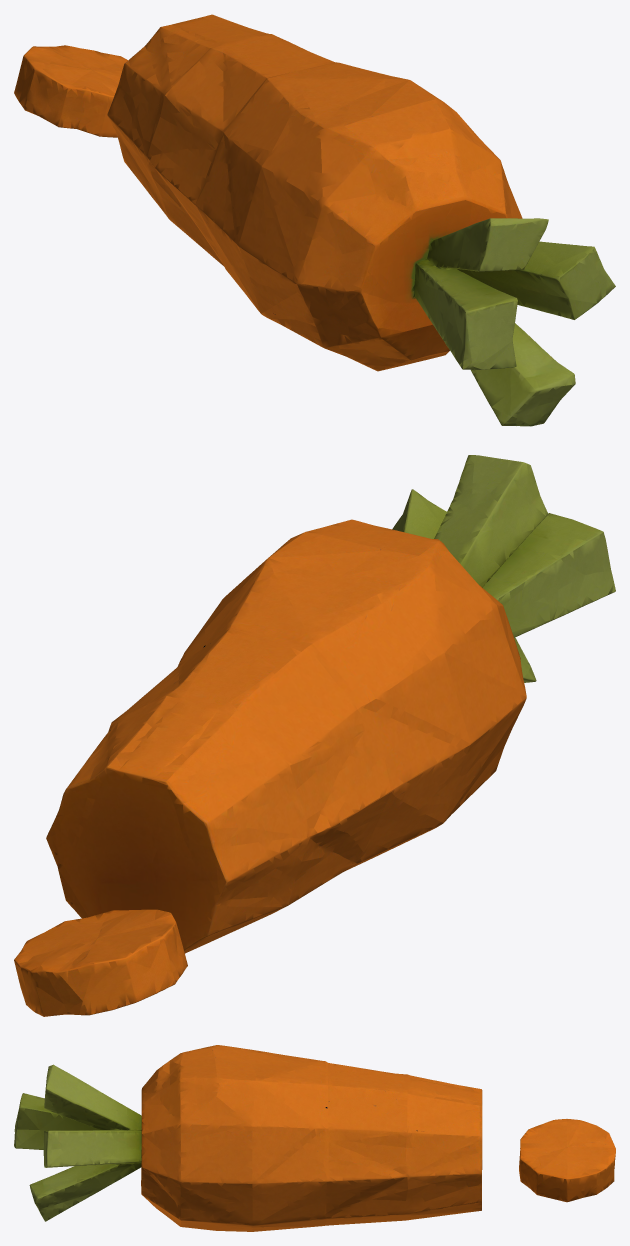
Rendered from new_carrot_2.fbx.
3 renders of one model, top to bottom at view 1: azimuth 30°, elevation 25°; view 2: azimuth 150°, elevation 25°; view 3: azimuth 270°, elevation 25°, orthographic. The views are drawn at different scales.
Visible parts, largest first — view 1: tripo_node_ba021461; view 2: tripo_node_ba021461; view 3: tripo_node_ba021461.
Part boxes in pixels (box(x1,y1,x2,y2)): tripo_node_ba021461: box(14, 14, 615, 426); tripo_node_ba021461: box(14, 455, 615, 1016); tripo_node_ba021461: box(14, 1045, 615, 1231).
Size of the model in its own units: 29.99 by 28.68 by 97.91.
1 material, 1 textured.
